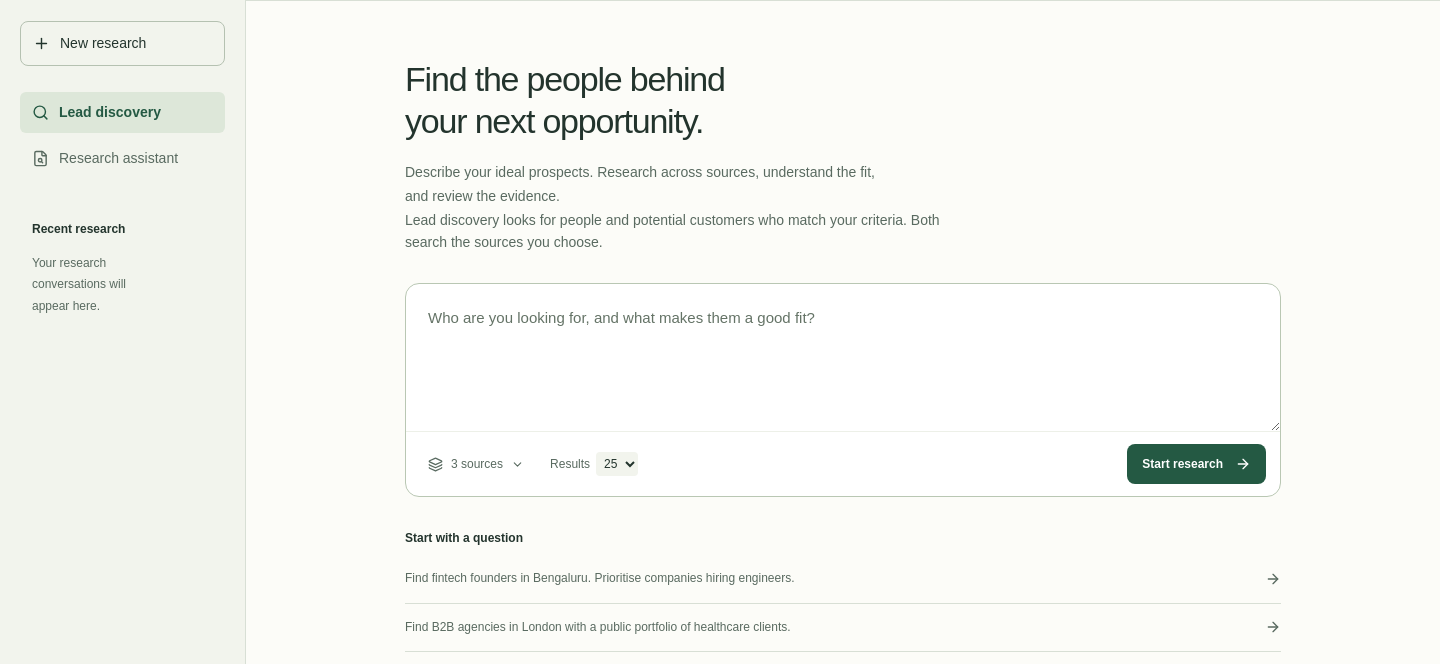
Test: research workbench › uses examples, optional sources and result controls in actual request
Expected: the button "Start research" is enabled, [1127,444,1266,484]
Click the button "Find fintech founders" at (600, 578), box [405,555,1281,604]
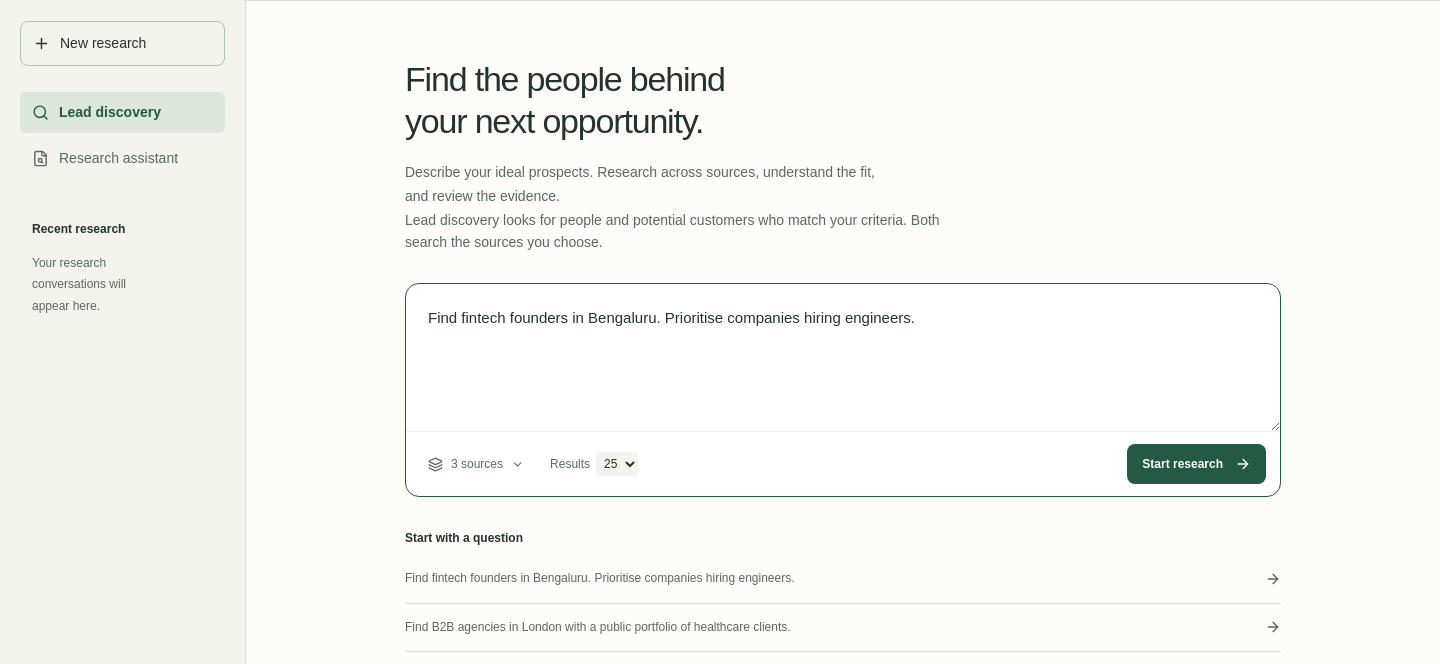
Click the button "3 sources" at (476, 464), box [420,449,532,479]
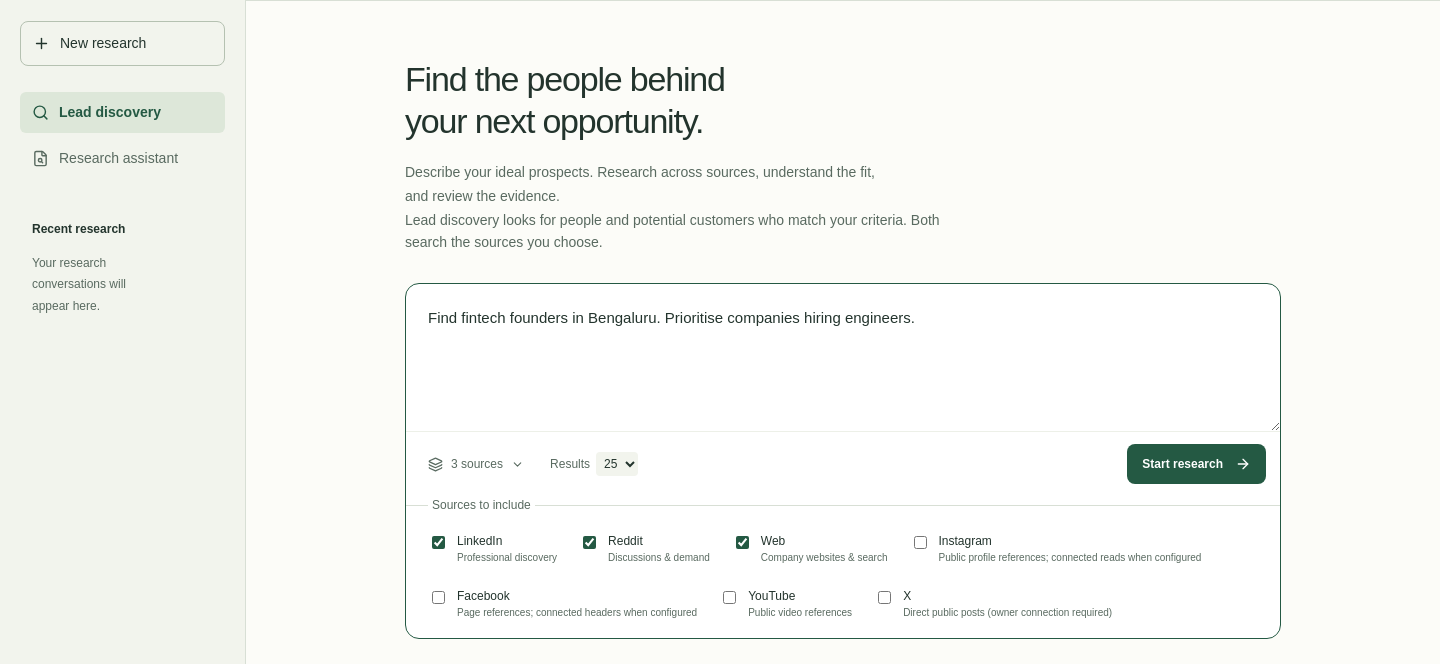
Click the checkbox labelled "Reddit Discussions & demand" at (590, 543), box [583,536,596,549]
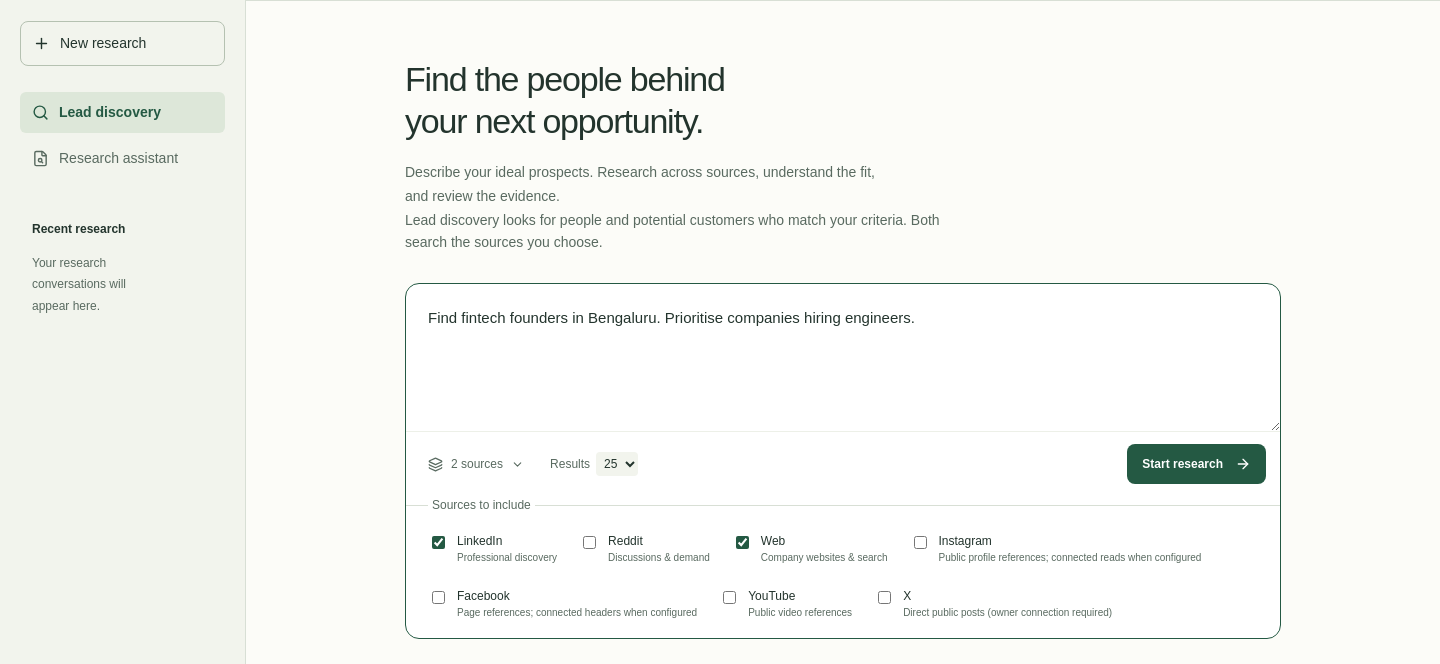
Select "10" in the dropdown labelled "Results" at (617, 464), box [596,452,638,476]
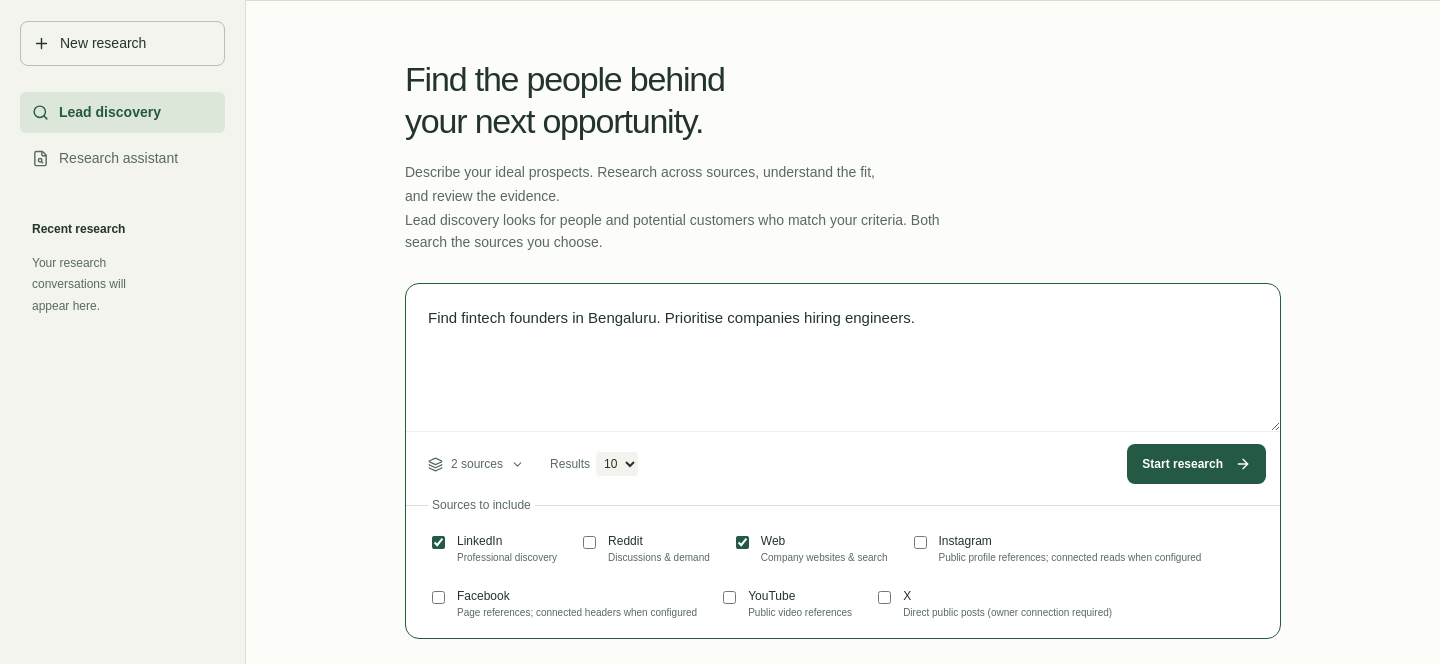
Click the button "Start research" at (1197, 464), box [1127,444,1266,484]
(page scrolled)
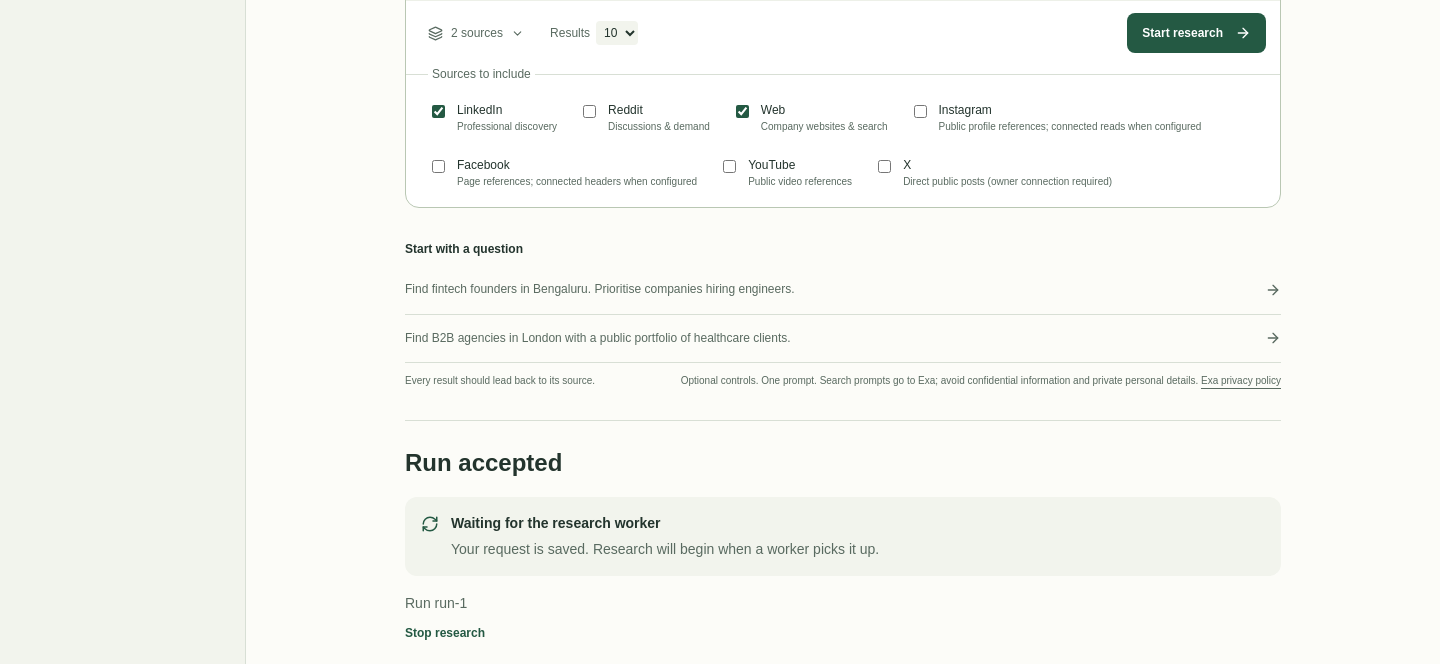
Result: the heading "Run accepted" is shown at [405,449,562,476]
